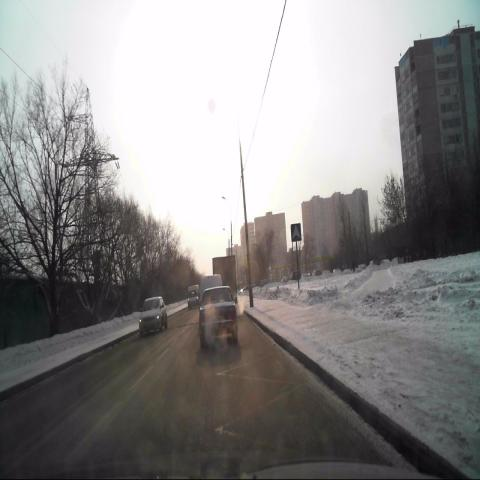5_20: (291, 223, 301, 241)
